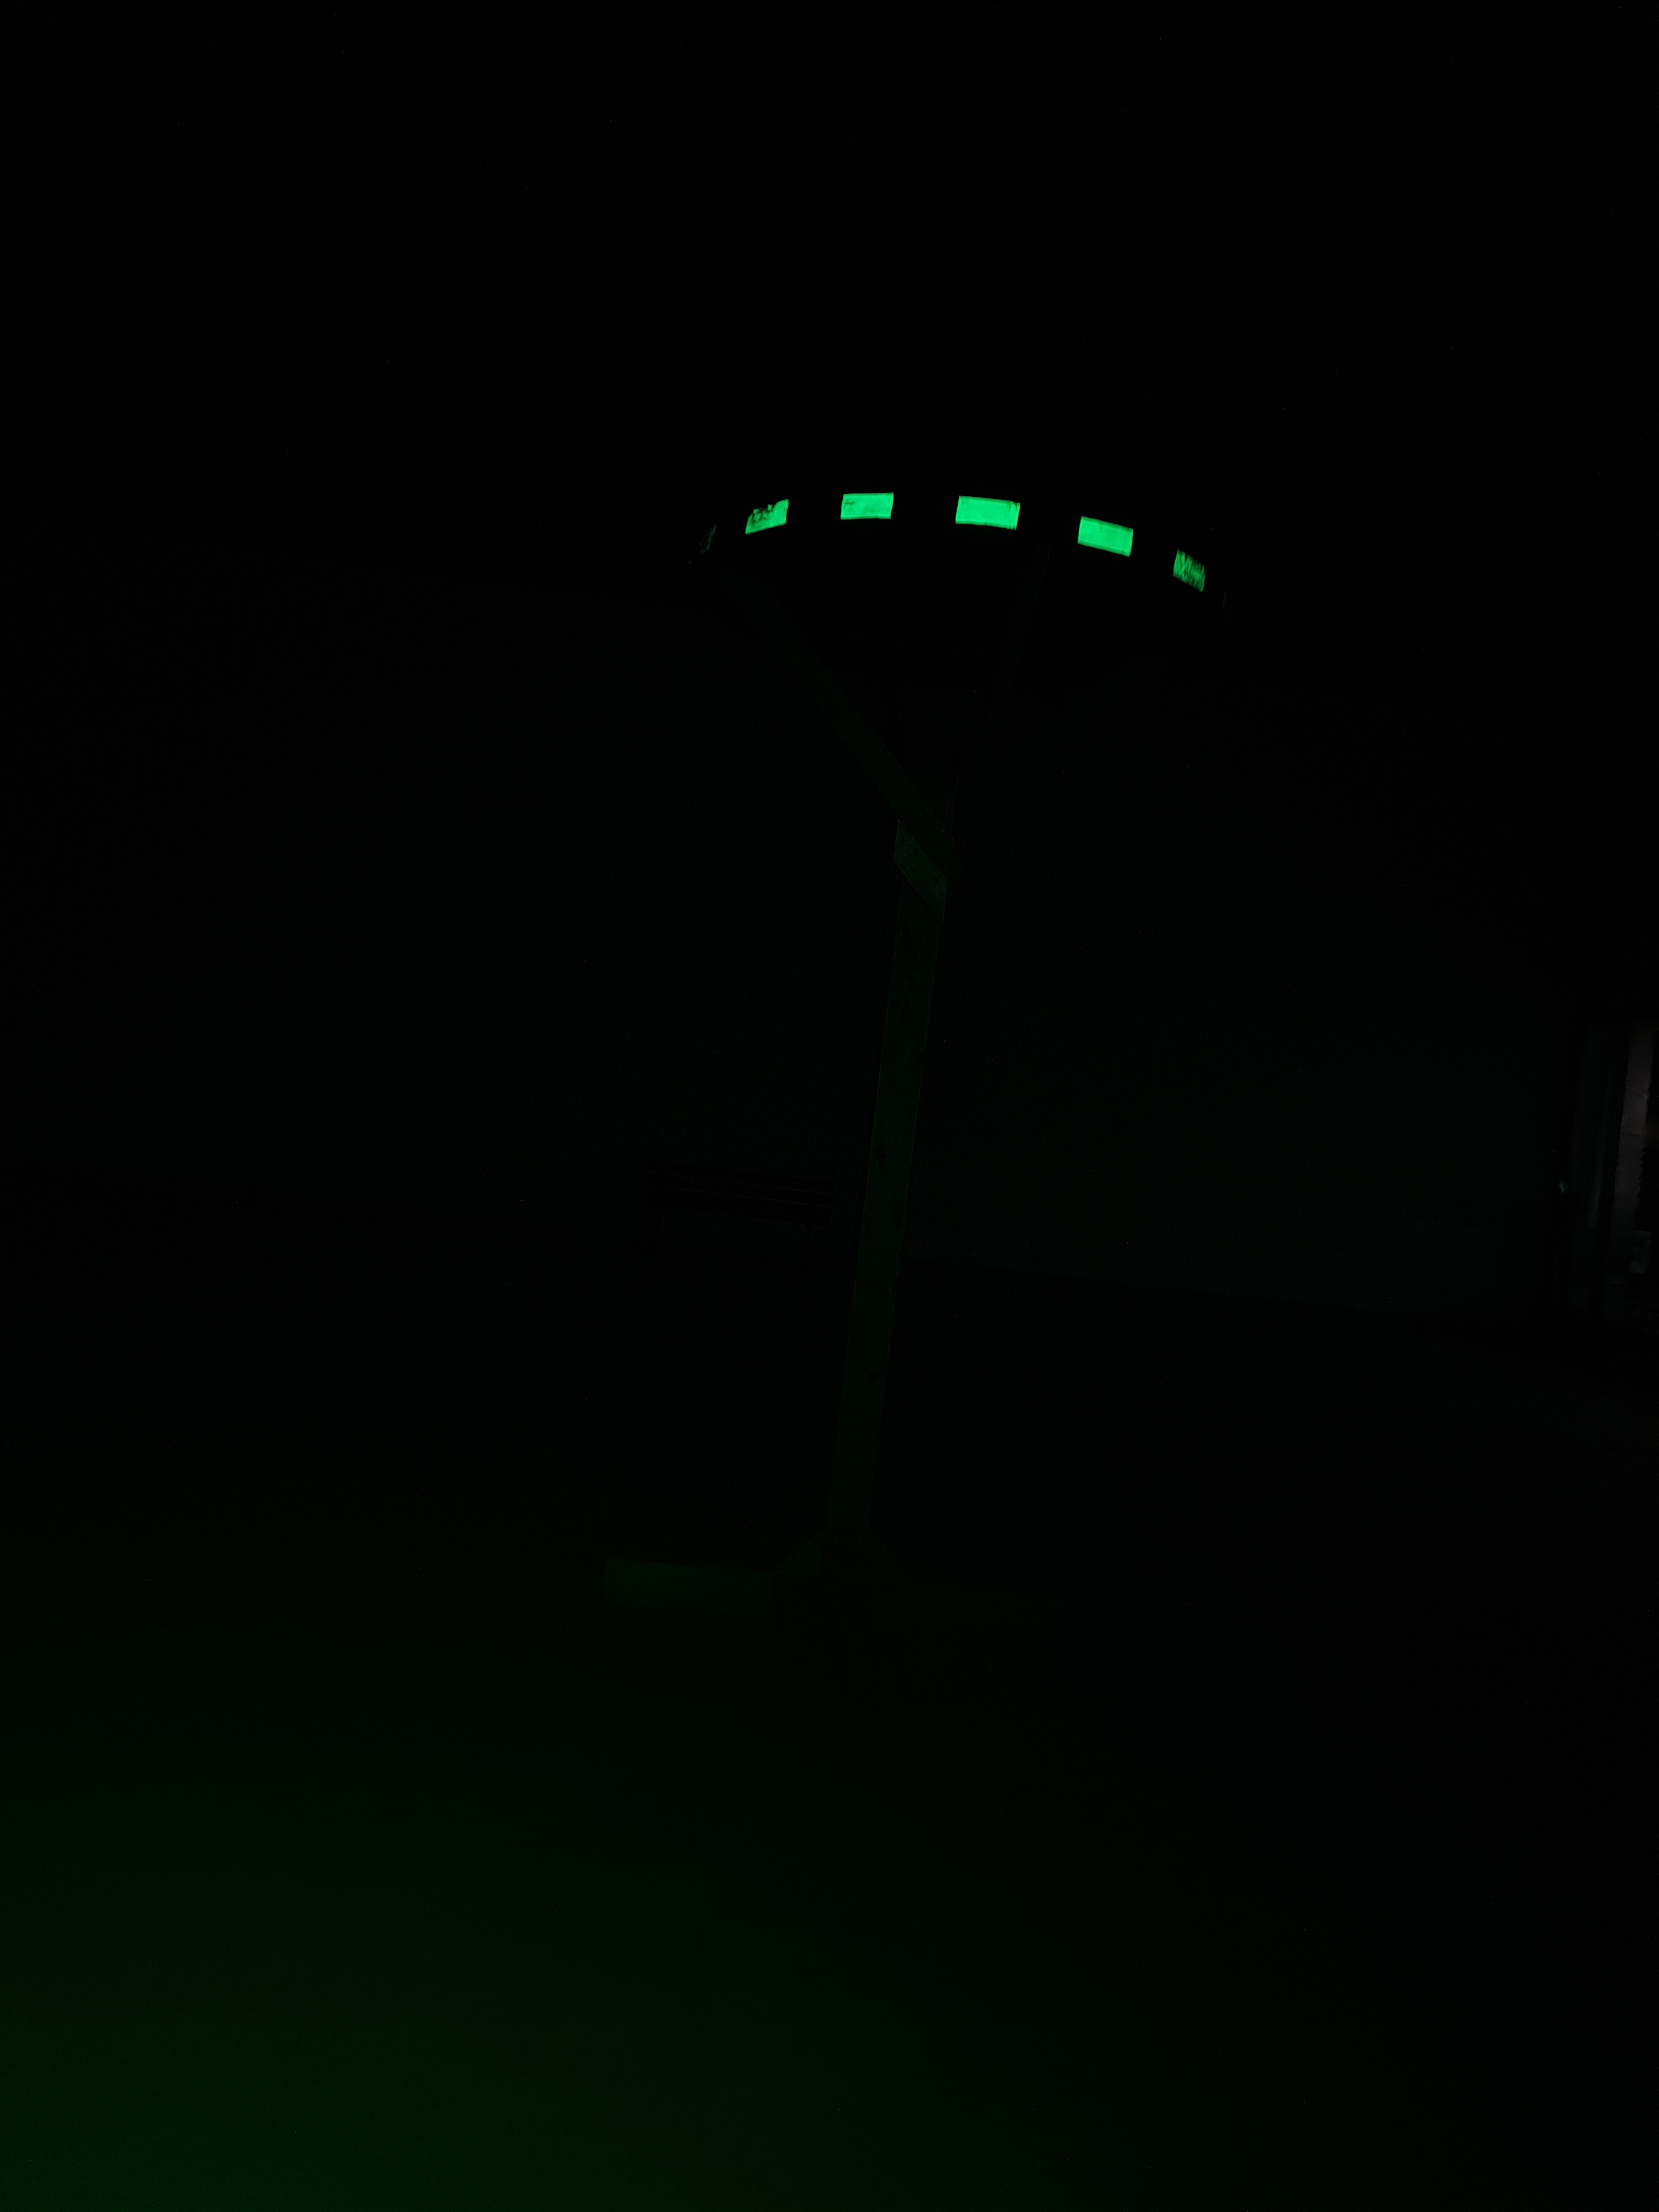hoop: (744, 484, 1206, 596)
